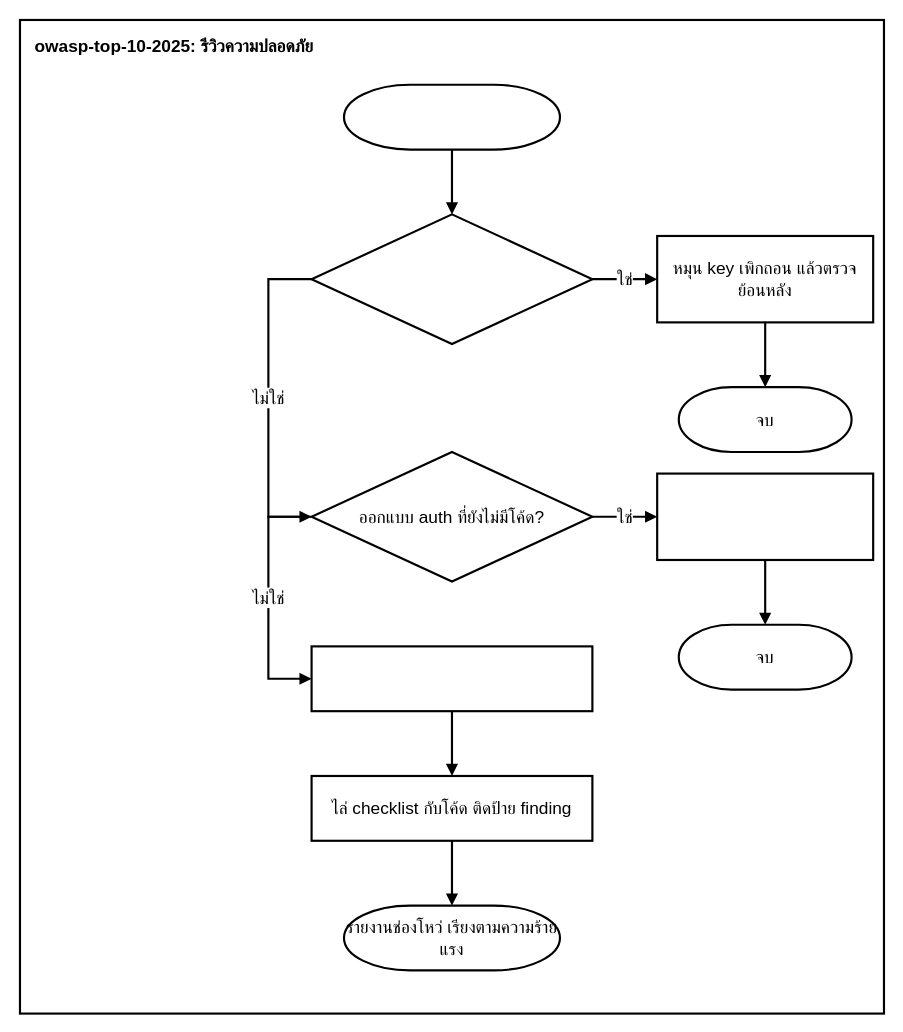
Some shapes in this 903 by 1032 pixel diagram are drawn without their labels. The centre of each missing label's shape, as x and y in pixels:
"key รั่ว หรือพฤติกรรมผิดปกติ?" goes at point 451,279.
"ระบุหมวดที่ตรง แล้วเปิด reference นั้น" goes at point 451,678.
"ออกแบบ OAuth2 PKCE และ API key" goes at point 765,516.
"เริ่ม" goes at point 451,116.
